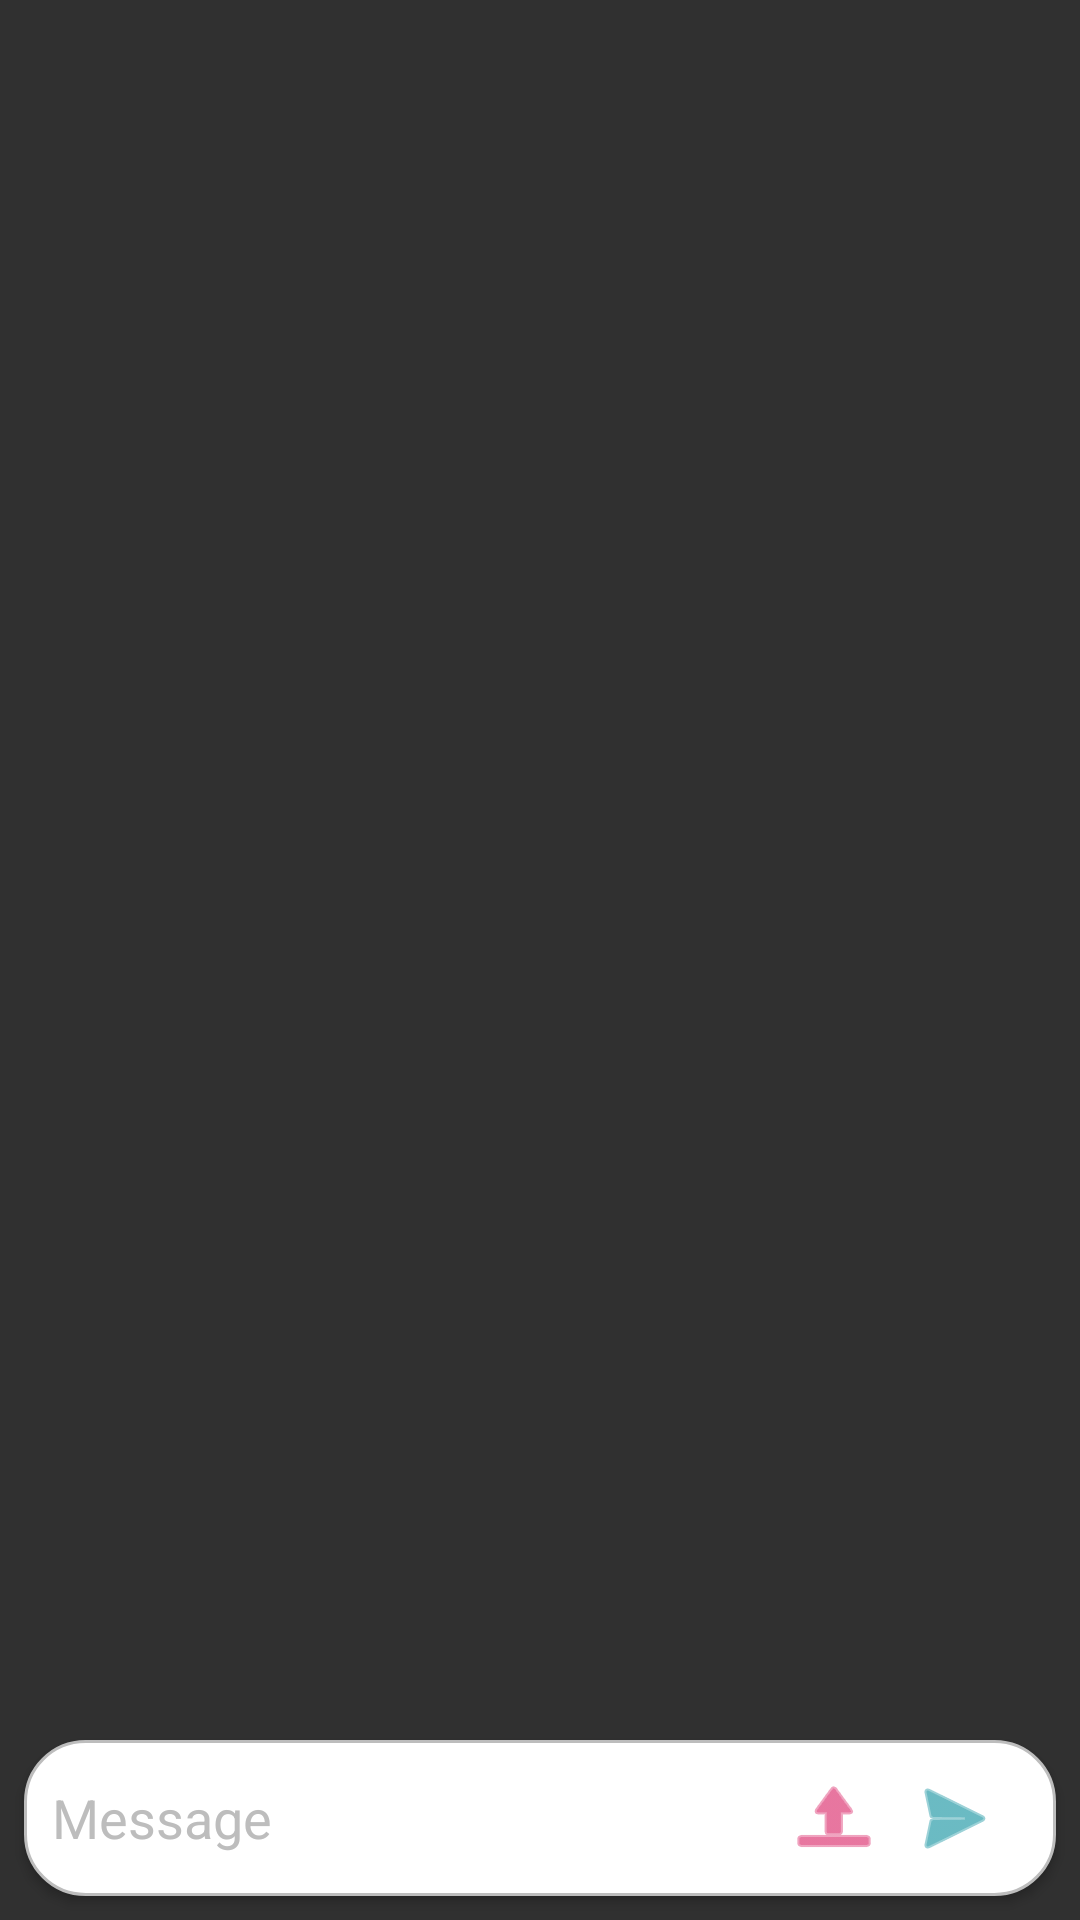

Icon bounding boxes for this 1080 x 1920 phone screenshot, format (x1,y1,x2,y2):
send: (924,1788,986,1849)
upload: (797,1786,871,1847)
